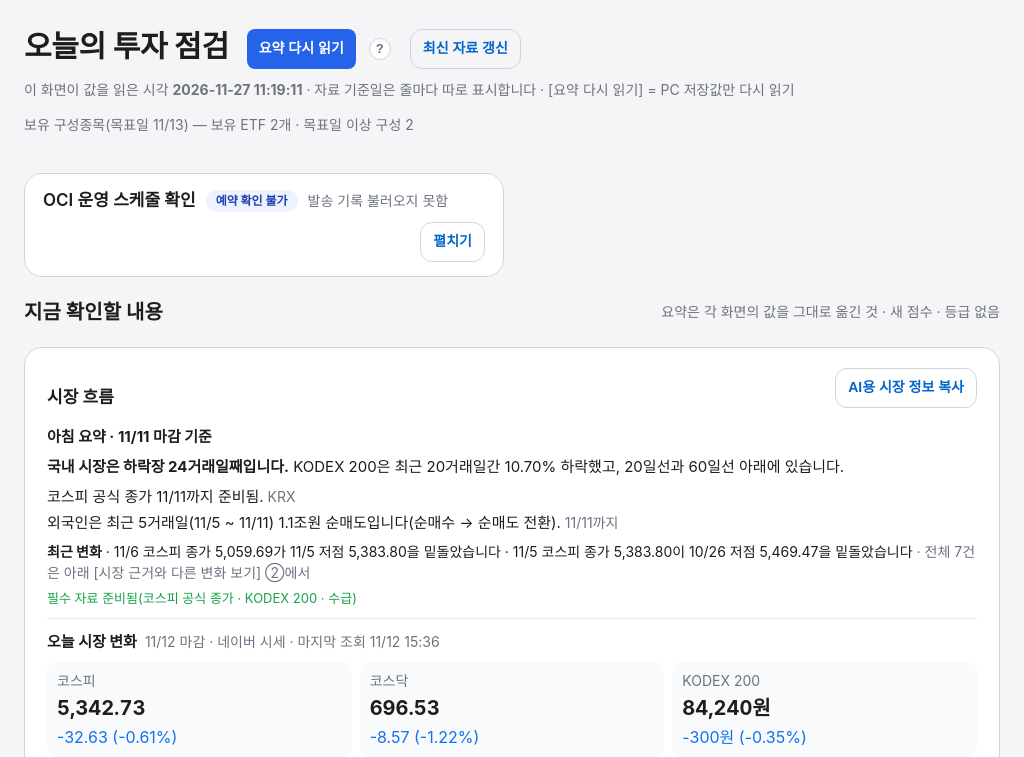
Test case: [AI용 시장 정보 복사](설계 §6 · 판정 §4 · POC6-32 V2 PLAN §4-1) › I-23 — 공통 근거를 못 읽으면(서버가 글을 만들지 못함(unavailable)) 복사하지 않고 알린다 · 대신할 글 · 글 상자 없음
The width and height of the screenshot is (1024, 757).
Click the button "AI용 시장 정보 복사". click: (906, 388)
box: [835,368,977,408]
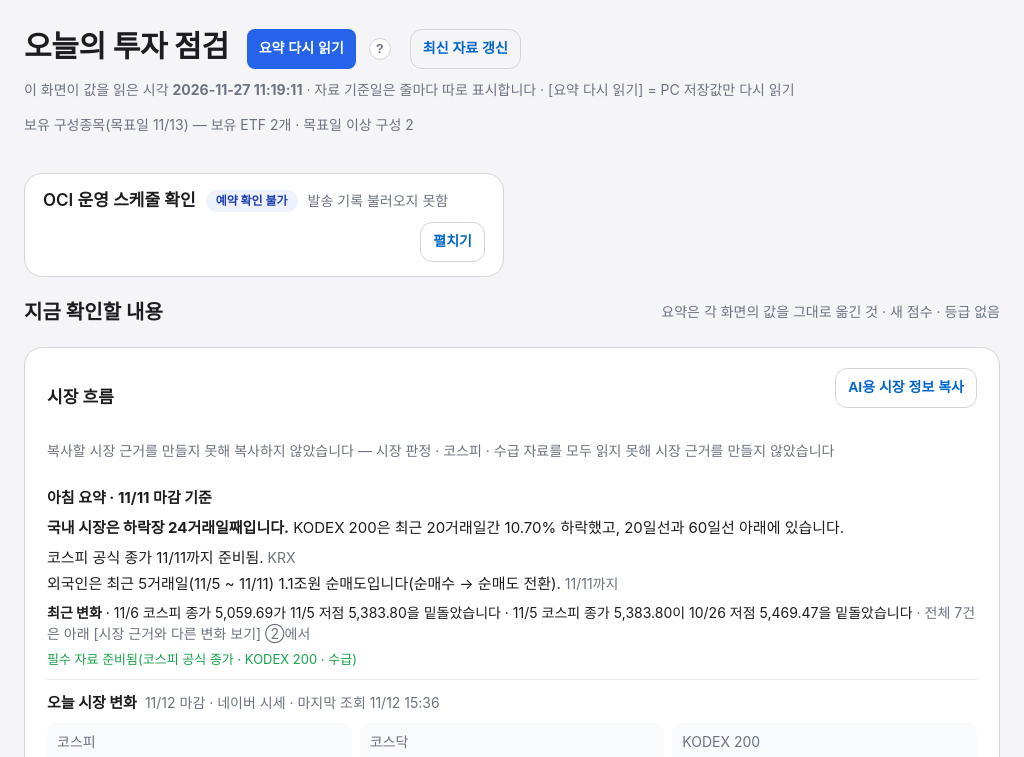
Check: the text with test id "tc-copy-message" reads "복사할 시장 근거를 만들지 못해 복사하지 않았습니다 — 시장 판정 · 코스피 · 수급 자료를 모두 읽지 못해 시장 근거를 만들지 않았습니다", box [47,442,834,459]
